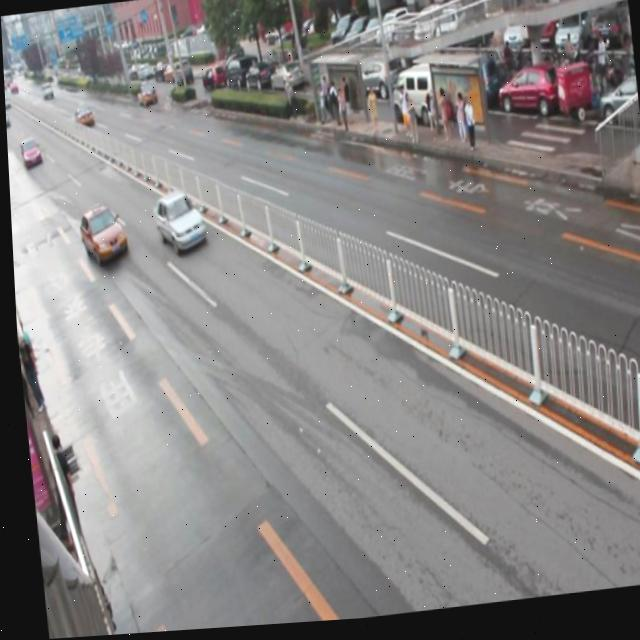car: (149, 189, 205, 259), (77, 204, 126, 266)
